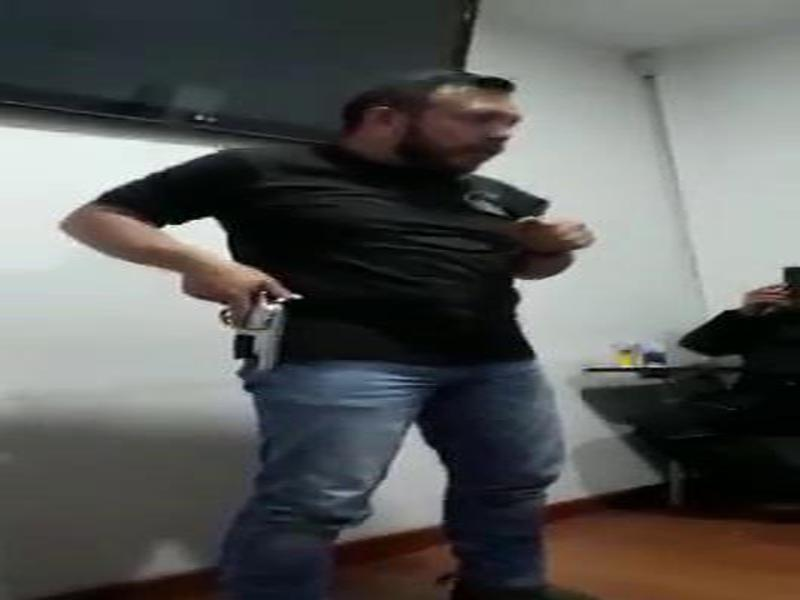Revolver: (210, 258, 300, 393)
